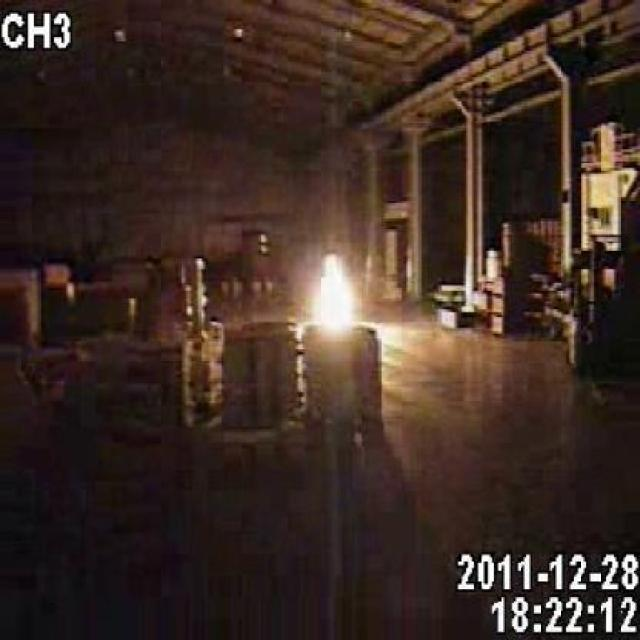smoke: (306, 246, 365, 336)
